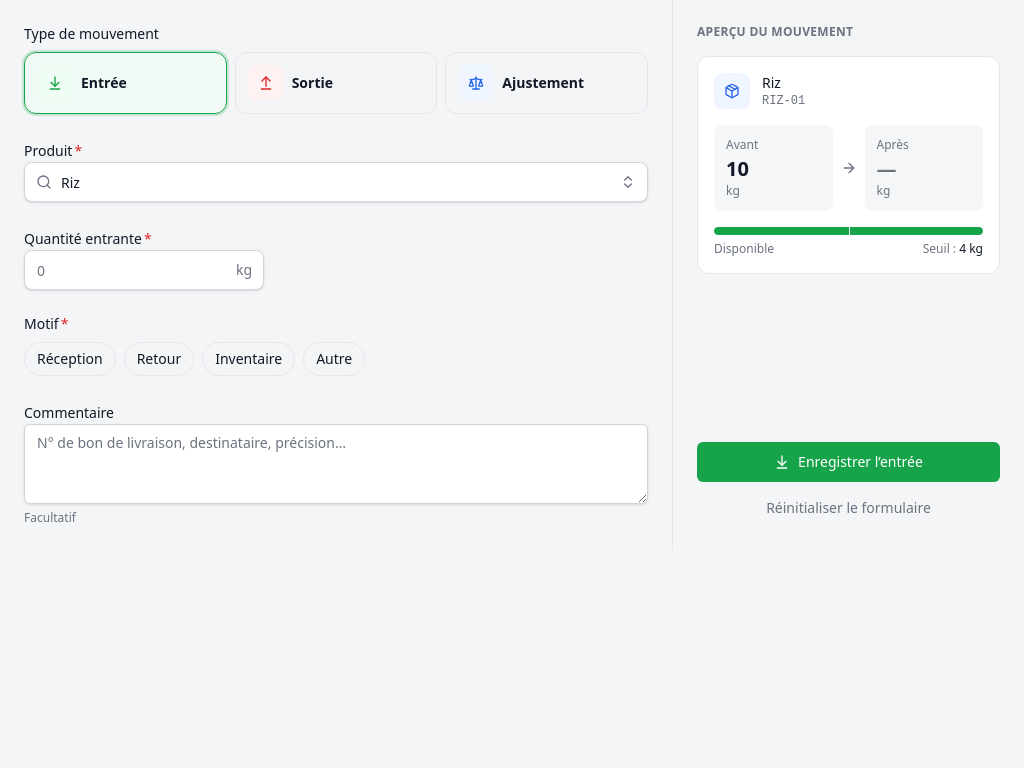
Scenario: MovementForm › bloque une sortie supérieure au stock disponible
Click the text "Sortie": (312, 83) [292,73,333,93]
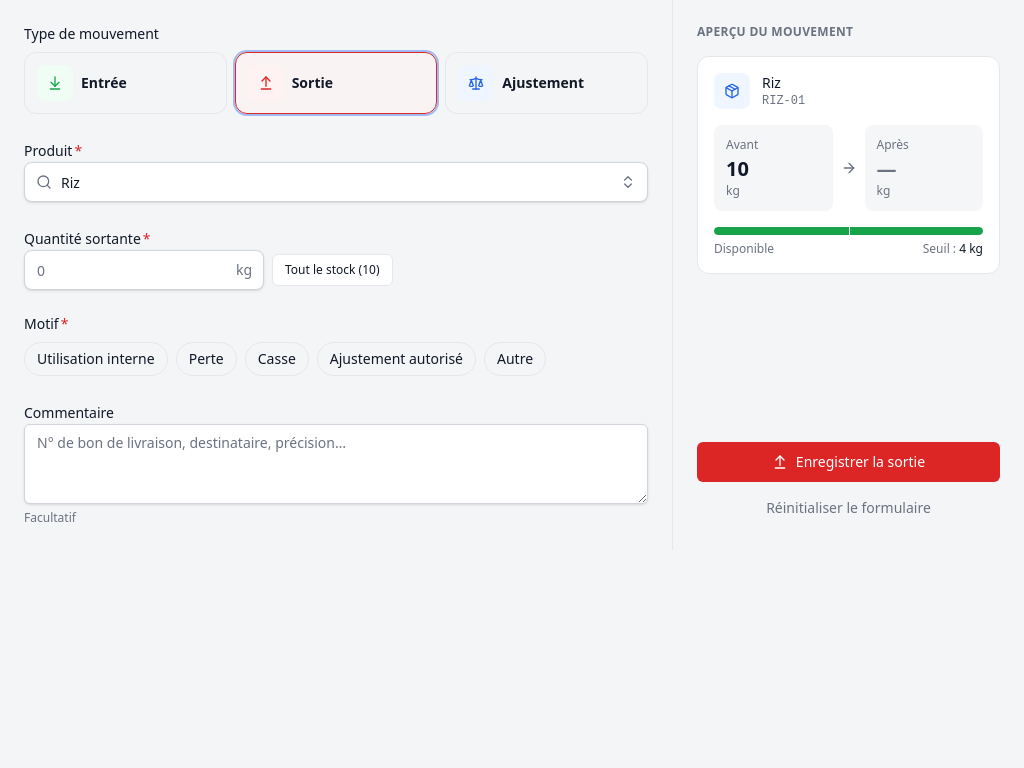
In the field labelled "Quantité sortante*": (144, 270) [24,250,264,290], type "12"
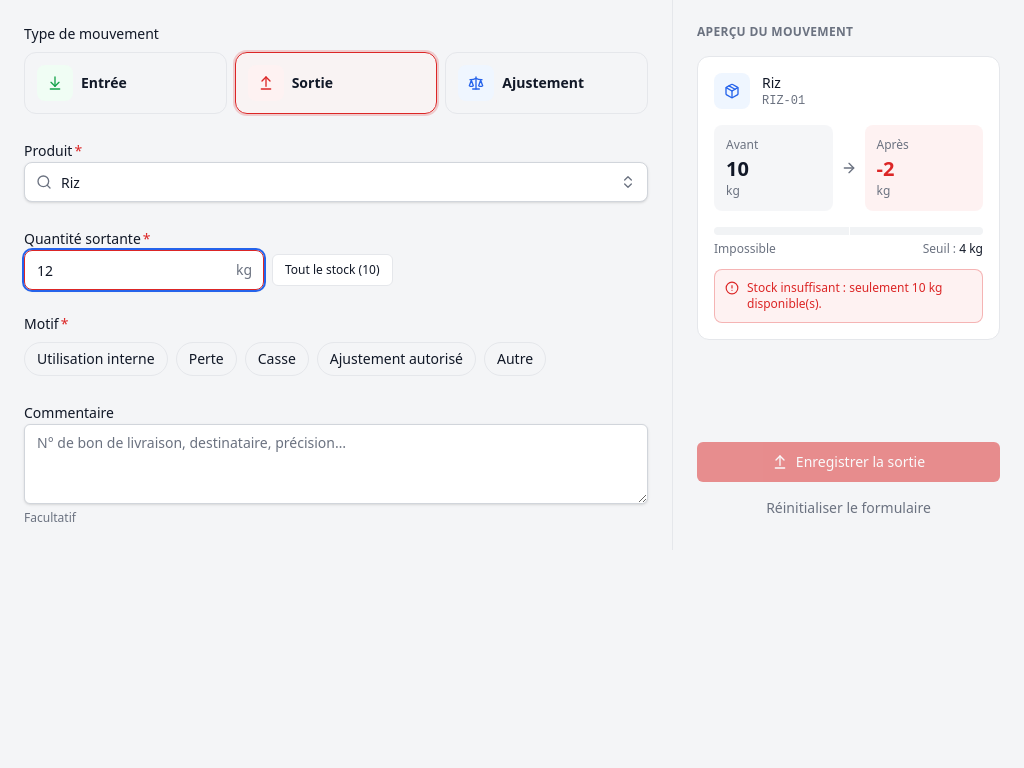
expect the text "Stock insuffisant : seulement 10 kg disponible(s)." is shown: met, box [714,269,983,323]
expect the button "Enregistrer la sortie" is disabled: met, box [697,442,1000,482]
